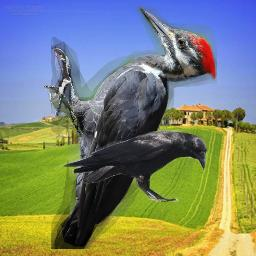Crow: (61, 130, 207, 202)
Cuckoo: (44, 85, 83, 136)
Woodpecker: (51, 6, 217, 249)
